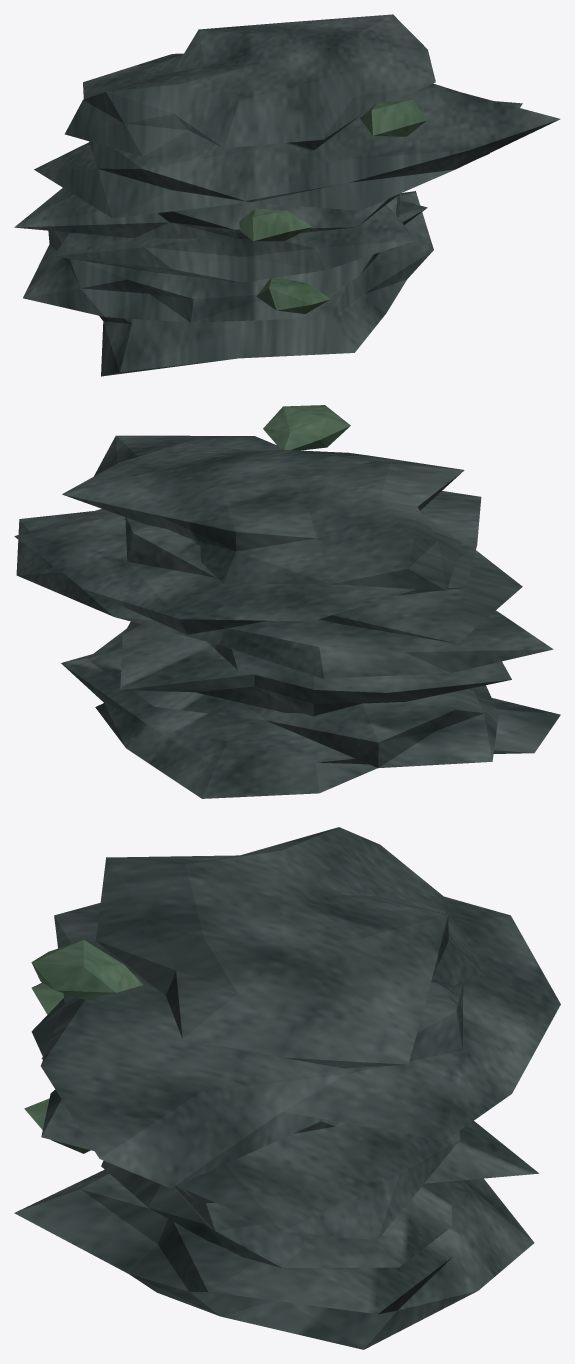
Rendered from 0027_layered_rock_02.glb.
The picture shows the model from 3 angles, top to bottom: view 1: azimuth 30°, elevation 25°; view 2: azimuth 150°, elevation 25°; view 3: azimuth 270°, elevation 25°; orthographic projection. The views are drawn at different scales.
Parts seen in each view (by area): view 1: stone_dark, moss; view 2: stone_dark, moss; view 3: stone_dark, moss.
Part boxes in pixels (x1=…): stone_dark: x1=14, y1=14, x2=560, y2=376; moss: x1=239, y1=99, x2=426, y2=313; stone_dark: x1=14, y1=435, x2=560, y2=798; moss: x1=263, y1=405, x2=350, y2=450; stone_dark: x1=14, y1=827, x2=560, y2=1349; moss: x1=24, y1=940, x2=142, y2=1153.
Size of the model in its own units: 2.63 by 1.24 by 1.74.
Materials: 2 (2 with a texture image).
